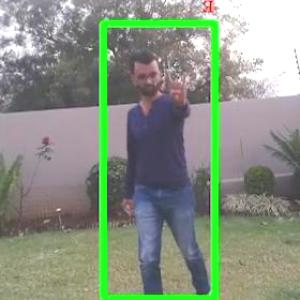takeoff-hand: (164, 70, 196, 113)
